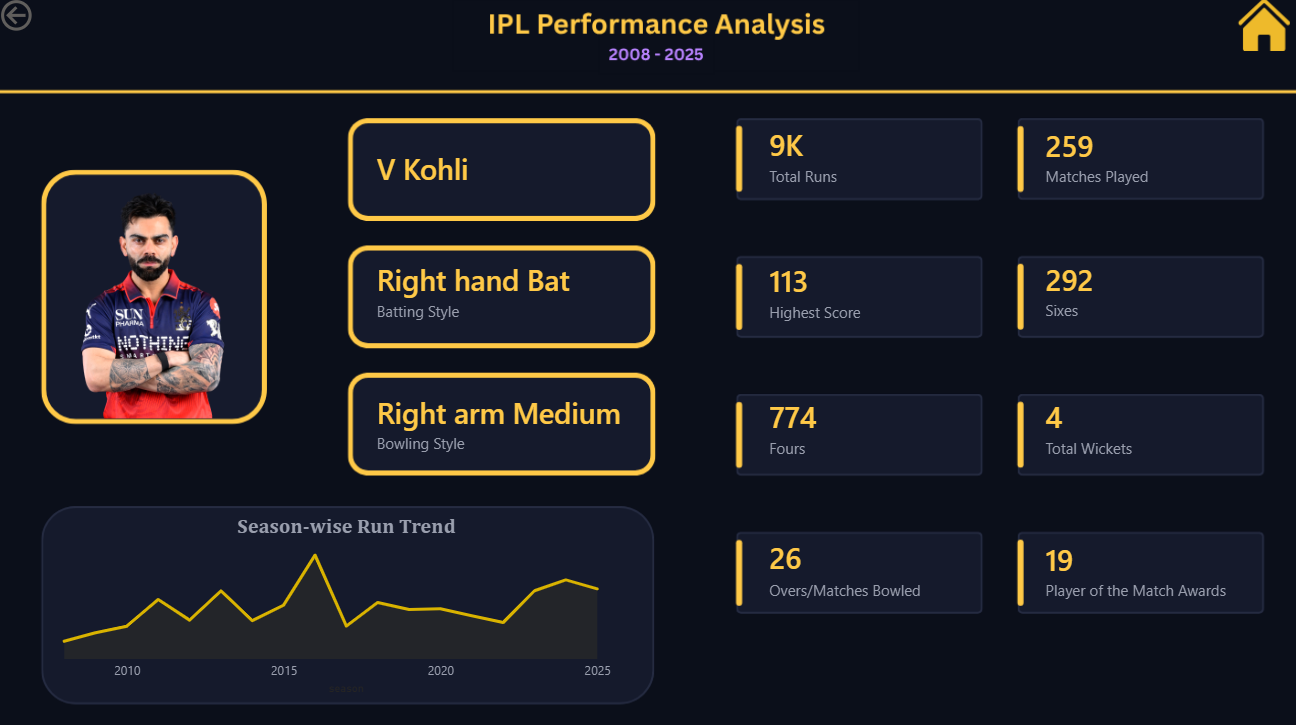

What the dashboard file says about the page in this screenshot:
{"tool":"powerbi","page":{"name":"Player Profile","canvas":[1280,720],"ordinal":5},"visuals":[{"type":"actionButton","box":[0,0,100,40],"z":0},{"type":"cardVisual","fields":{"Data":["Min(ipl_players_clean.player_name)"]},"box":[344.4,133.1,295,78.2],"z":1000},{"type":"cardVisual","fields":{"Data":["_Measures.Total Runs by Player"]},"box":[730,118,145.5,85.1],"z":2000},{"type":"cardVisual","fields":{"Data":["_Measures.Total Wickets by Player"]},"box":[1001.7,382.8,171.5,90.6],"z":3000},{"type":"tableEx","fields":{"Values":["ipl_players_clean.player_image"]},"box":[30.2,164,230.5,263.5],"z":4000},{"type":"cardVisual","fields":{"Data":["_Measures.Matches Batted"]},"box":[1001.7,115.3,161.9,91.9],"z":5000},{"type":"cardVisual","fields":{"Data":["_Measures.Matches Bowled"]},"box":[730,521.4,203.1,90.6],"z":6000},{"type":"cardVisual","fields":{"Data":["_Measures.Highest Score (Player)"]},"box":[730,248.4,166,93.3],"z":7000},{"type":"cardVisual","fields":{"Data":["_Measures.Sixes by Player"]},"box":[1001.7,248.4,134.5,89.2],"z":8000},{"type":"cardVisual","fields":{"Data":["_Measures.Fours by Player"]},"box":[730,384.2,122.1,87.8],"z":9000},{"type":"cardVisual","fields":{"Data":["_Measures.POTM by Player"]},"box":[1001.7,516,231.9,102.9],"z":10000},{"type":"lineChart","title":"Season-wise Run Trend","fields":{"Category":["ipl_matches_clean.season"],"Y":["_Measures.Total Runs by Player"]},"box":[49.4,509.1,590.1,182.5],"z":11000},{"type":"cardVisual","fields":{"Data":["Min(ipl_players_clean.bat_style)"]},"box":[344.4,248.4,295,90.6],"z":12000},{"type":"cardVisual","fields":{"Data":["Min(ipl_players_clean.bowl_style)"]},"box":[344.4,377.4,295,91.9],"z":13000},{"type":"actionButton","box":[1217.2,0,52.8,57.7],"z":14000}]}

Visuals, with their boxes in screenshot pixels (x1, y1, x2, y2), scaled from the page's 1280x720 canvas onto the 1296x725 screenshot:
actionButton: left=0, top=0, right=101, bottom=40
cardVisual - Min(ipl_players_clean.player_name): left=349, top=134, right=647, bottom=213
cardVisual - _Measures.Total Runs by Player: left=739, top=119, right=886, bottom=205
cardVisual - _Measures.Total Wickets by Player: left=1014, top=385, right=1188, bottom=477
tableEx - ipl_players_clean.player_image: left=31, top=165, right=264, bottom=430
cardVisual - _Measures.Matches Batted: left=1014, top=116, right=1178, bottom=209
cardVisual - _Measures.Matches Bowled: left=739, top=525, right=945, bottom=616
cardVisual - _Measures.Highest Score (Player): left=739, top=250, right=907, bottom=344
cardVisual - _Measures.Sixes by Player: left=1014, top=250, right=1150, bottom=340
cardVisual - _Measures.Fours by Player: left=739, top=387, right=863, bottom=475
cardVisual - _Measures.POTM by Player: left=1014, top=520, right=1249, bottom=623
"Season-wise Run Trend" lineChart: left=50, top=513, right=647, bottom=696
cardVisual - Min(ipl_players_clean.bat_style): left=349, top=250, right=647, bottom=341
cardVisual - Min(ipl_players_clean.bowl_style): left=349, top=380, right=647, bottom=473
actionButton: left=1232, top=0, right=1286, bottom=58
